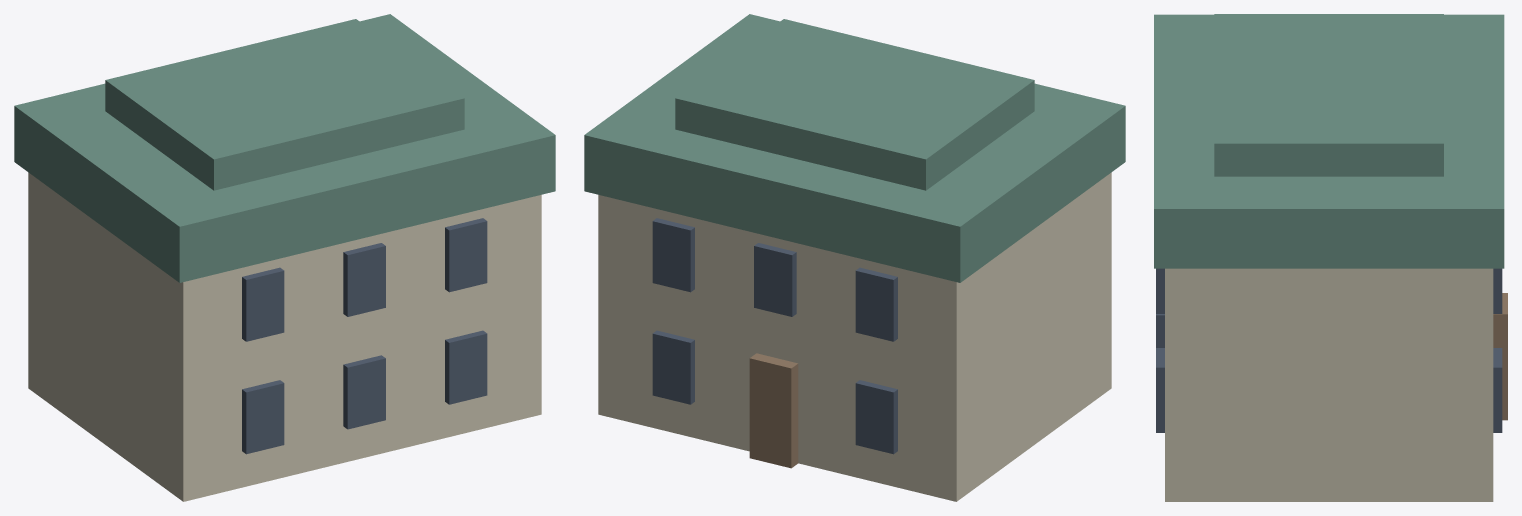
Rendered from house_b.glb.
3 views of the same model, side by side, from view 1: azimuth 30°, elevation 25°; view 2: azimuth 150°, elevation 25°; view 3: azimuth 270°, elevation 25° (orthographic). The views are drawn at different scales.
Visible parts, largest first — view 1: walls, roof, ridge, win.007, win.009, win.008, win.006, win.011, win.010; view 2: walls, roof, ridge, door, win.003, win.002, win, win.005, win.004; view 3: walls, roof, ridge, door, win.002, win.008, win.005, win.011.
Part boxes in pixels (x1,y1,x2,y2): walls: (28,172,541,501); roof: (14,14,555,282); ridge: (105,19,464,190); win.007: (343,355,385,429); win.009: (242,267,284,341); win.008: (445,330,487,404); win.006: (242,380,284,454); win.011: (445,218,487,292); win.010: (343,243,385,316); walls: (598,172,1111,501); roof: (584,14,1125,282); ridge: (675,19,1034,190); door: (749,353,798,468); win.003: (855,267,897,341); win.002: (652,330,694,404); win: (855,380,897,454); win.005: (652,218,694,292); win.004: (754,243,796,316); walls: (1165,268,1493,501); roof: (1154,14,1504,268); ridge: (1214,14,1443,176); door: (1493,293,1507,420); win.002: (1493,348,1502,432); win.008: (1156,348,1164,432); win.005: (1493,268,1502,313); win.011: (1156,268,1164,313).
Size of the model in its own units: 12.6 by 10 by 9.7.
